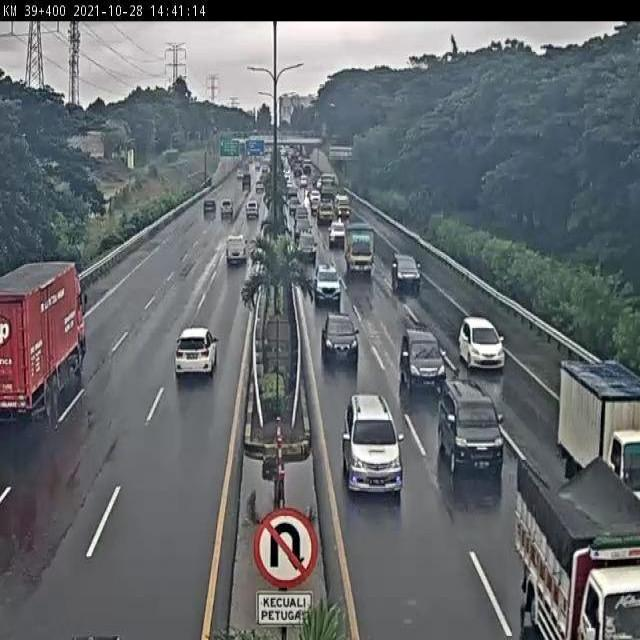car: (344, 397, 404, 496), (441, 381, 504, 475), (399, 328, 447, 389), (458, 315, 506, 368), (174, 324, 218, 377), (321, 315, 359, 368), (391, 255, 421, 292), (313, 264, 341, 301), (225, 233, 247, 260), (296, 232, 316, 261)
mid truck: (0, 258, 88, 418)
small truck: (556, 359, 640, 513)
truck-m-: (344, 224, 374, 276)
